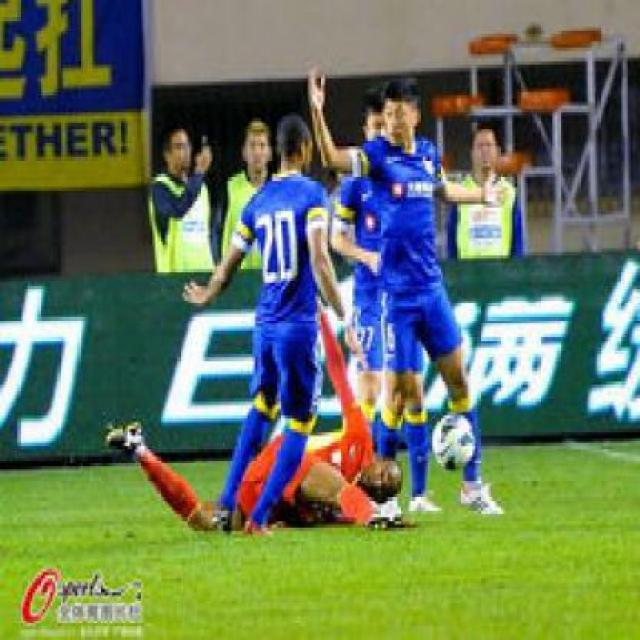fall: (88, 286, 423, 534)
